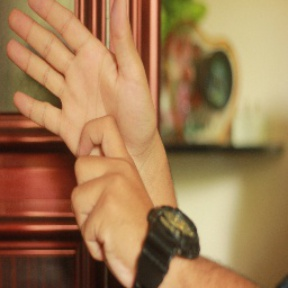R: (5, 1, 156, 241)
